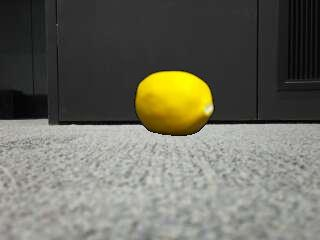lemon: (136, 70, 213, 135)
